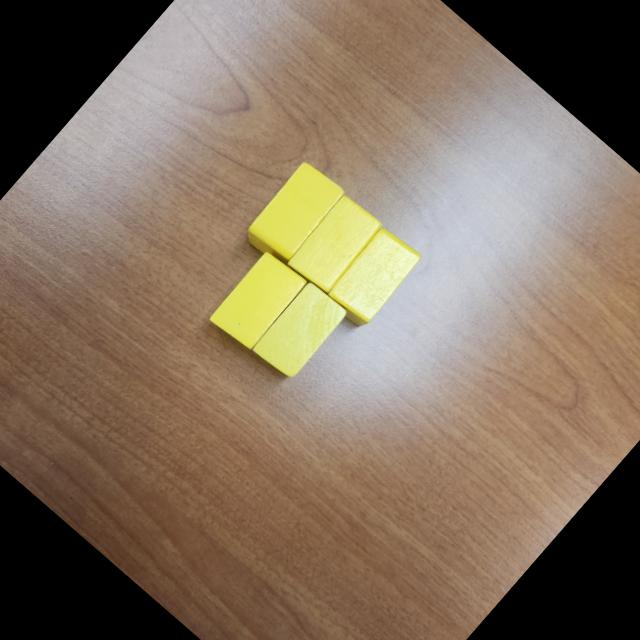yellow: (240, 160, 347, 272), (320, 224, 425, 332), (283, 190, 387, 298), (207, 246, 310, 354), (249, 278, 351, 384)
